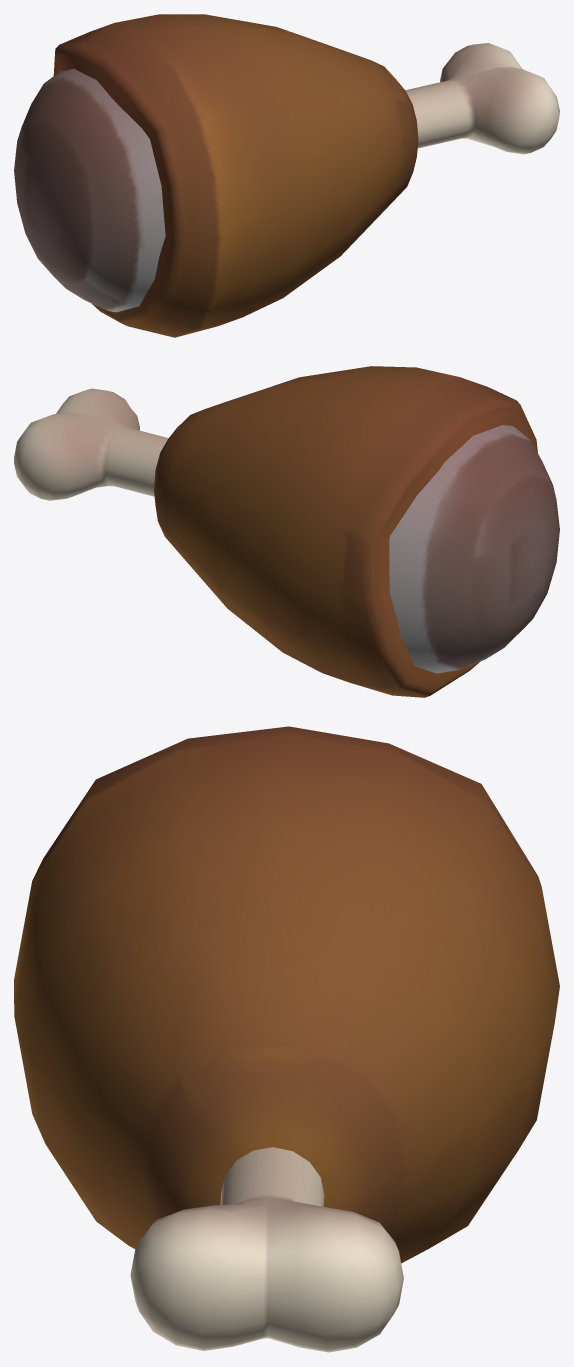
Rendered from Chicken_Raw_Leg_2.fbx.
The picture shows the model from 3 angles, top to bottom: view 1: azimuth 30°, elevation 25°; view 2: azimuth 150°, elevation 25°; view 3: azimuth 270°, elevation 25°; orthographic projection. The views are drawn at different scales.
Visible parts, largest first — view 1: Chicken_Raw_Leg_2; view 2: Chicken_Raw_Leg_2; view 3: Chicken_Raw_Leg_2.
Boxes of the visible parts, bbox=[...] form: Chicken_Raw_Leg_2: bbox=[14, 14, 559, 337]; Chicken_Raw_Leg_2: bbox=[14, 366, 559, 697]; Chicken_Raw_Leg_2: bbox=[14, 726, 559, 1352].
Size of the model in its own units: 307 by 171 by 171.
